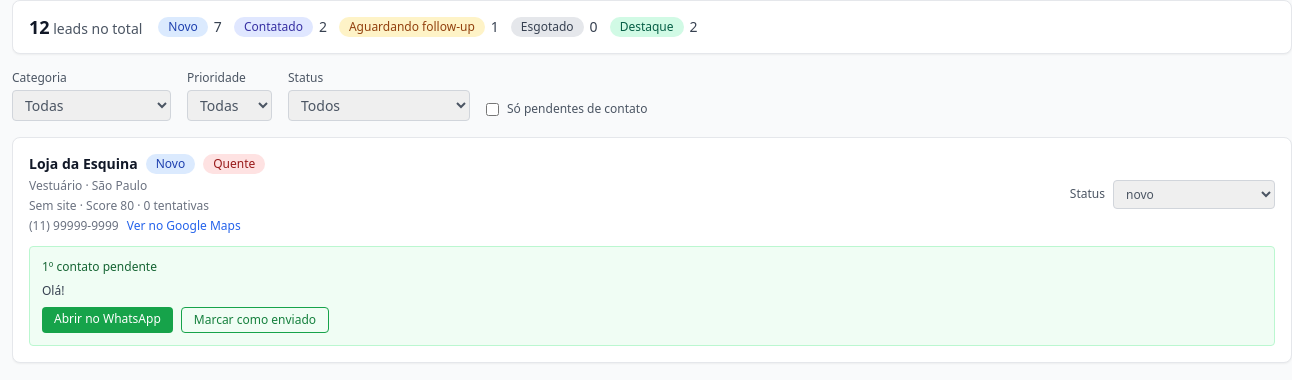
Test: LeadsList › descartar exclui o card da lista e recarrega a contagem
Expected: the heading "Loja da Esquina" is shown, 29,154 -> 138,174
Select "descartado" in the dropdown named "Status de Loja da Esquina". click: (1194, 194)
box: 1113,180 -> 1275,208
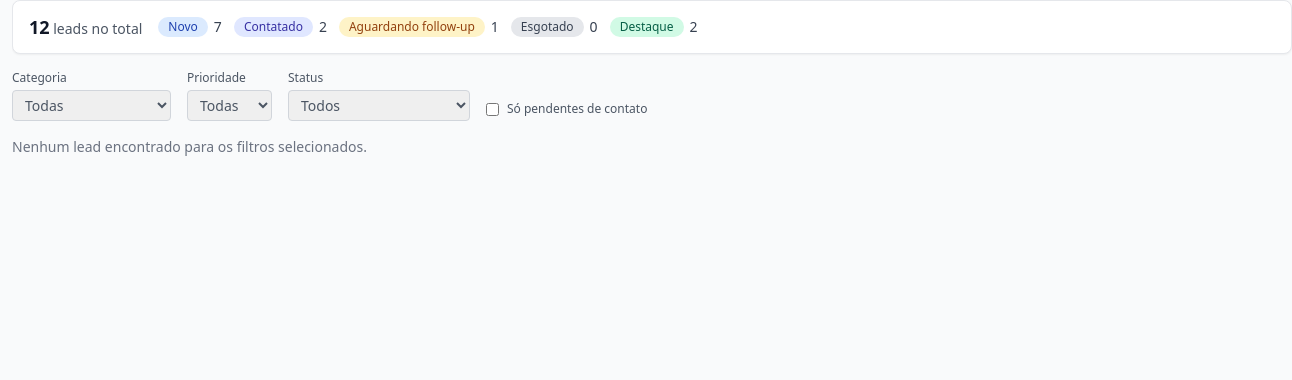
Expected: the heading "Loja da Esquina" is gone
